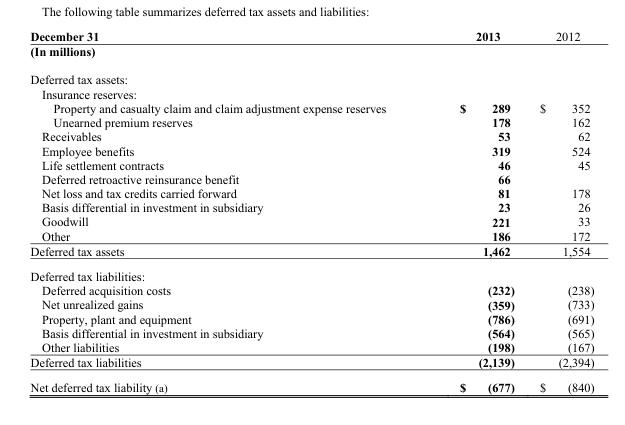table: (29, 29, 593, 394)
table column: (29, 29, 422, 394), (422, 29, 526, 394), (526, 29, 593, 394)
table column header: (29, 29, 593, 43)
table projected row header: (29, 43, 593, 65), (29, 65, 593, 86), (29, 263, 593, 282), (29, 86, 593, 100)
table row: (29, 43, 593, 65), (29, 65, 593, 86), (29, 243, 593, 263), (29, 354, 593, 374), (29, 374, 593, 394), (29, 263, 593, 282), (29, 114, 593, 129), (29, 185, 593, 200), (29, 228, 593, 243), (29, 282, 593, 297), (29, 339, 593, 354), (29, 29, 593, 43), (29, 86, 593, 100), (29, 100, 593, 114), (29, 129, 593, 143), (29, 143, 593, 157), (29, 157, 593, 171), (29, 171, 593, 185), (29, 200, 593, 214), (29, 214, 593, 228), (29, 297, 593, 311), (29, 311, 593, 325), (29, 325, 593, 339)
